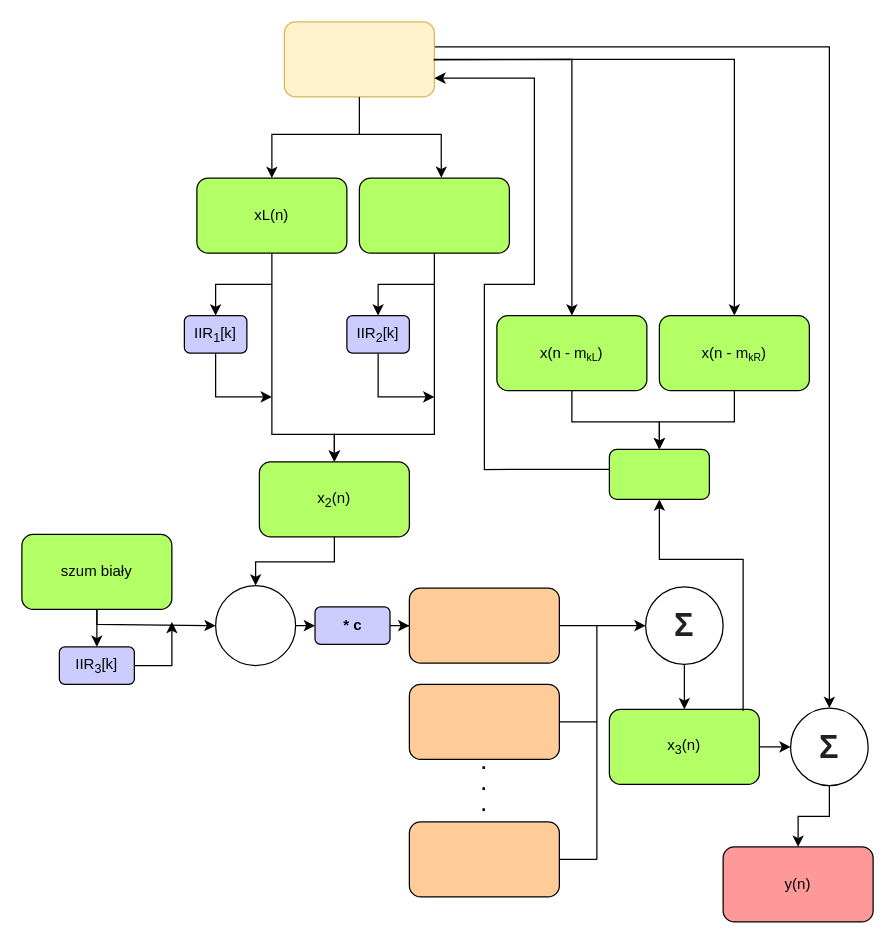
Some shapes in this 895 by 944 pixel diagram are drawn without their labels. The shapes that lost their labels are listed below. From the top down, each one's centre as x and y in pixels, then its label:
At [358,59]: "x(n)".
At [433,215]: "xR(n)".
At [658,473]: "x 4 (n)".
At [255,625]: "mnożenie buforów".
At [483,625]: "b k=0 (n)".
At [483,721]: "b k=1 (n)".
At [483,859]: "b k=nl (n)".
